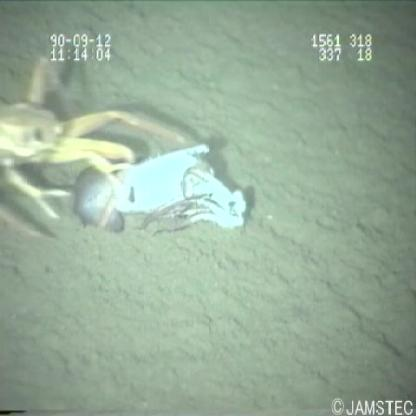Bio: (1, 52, 199, 248), (65, 143, 248, 250)
